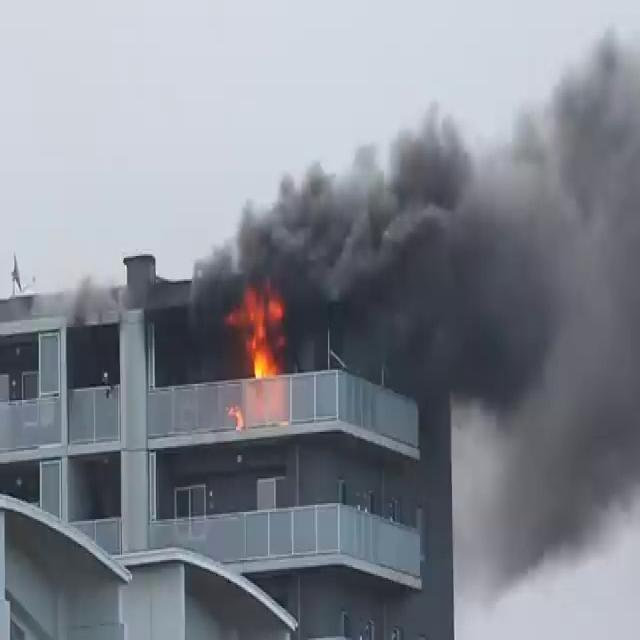Fire: (232, 286, 288, 382)
Smoke: (182, 80, 639, 420), (444, 23, 640, 597)
